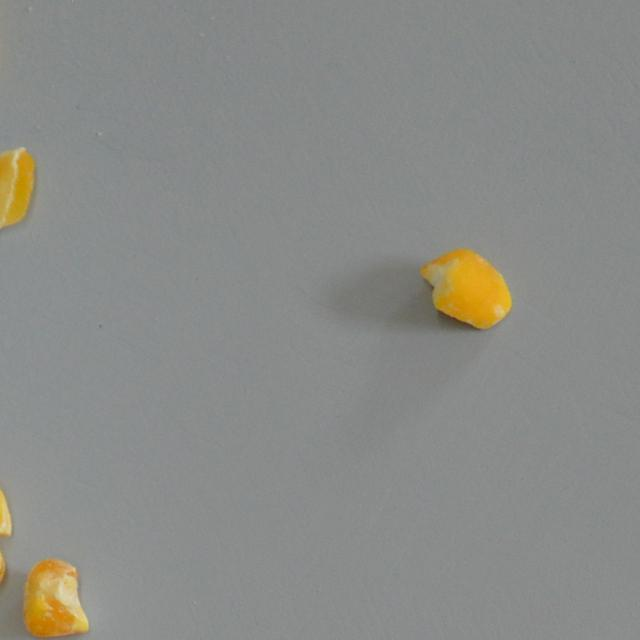estandar: (418, 245, 512, 330)
pelicula: (15, 564, 102, 639), (0, 157, 49, 234), (0, 8, 10, 80)
